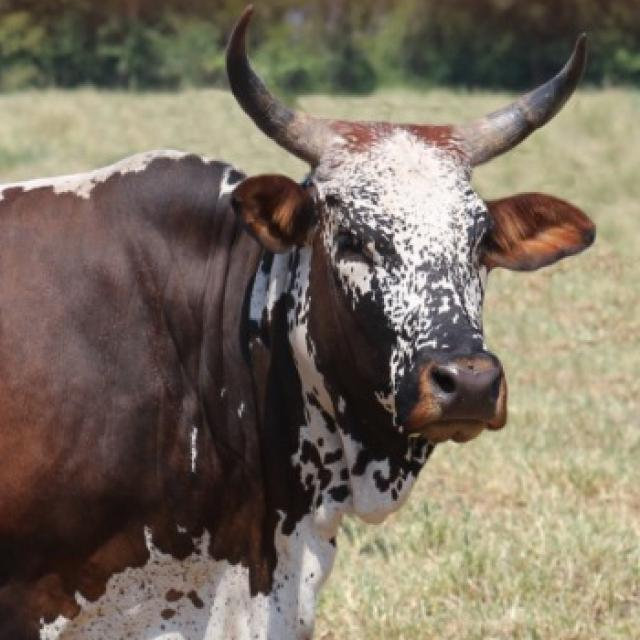cowFace: (212, 7, 607, 481)
